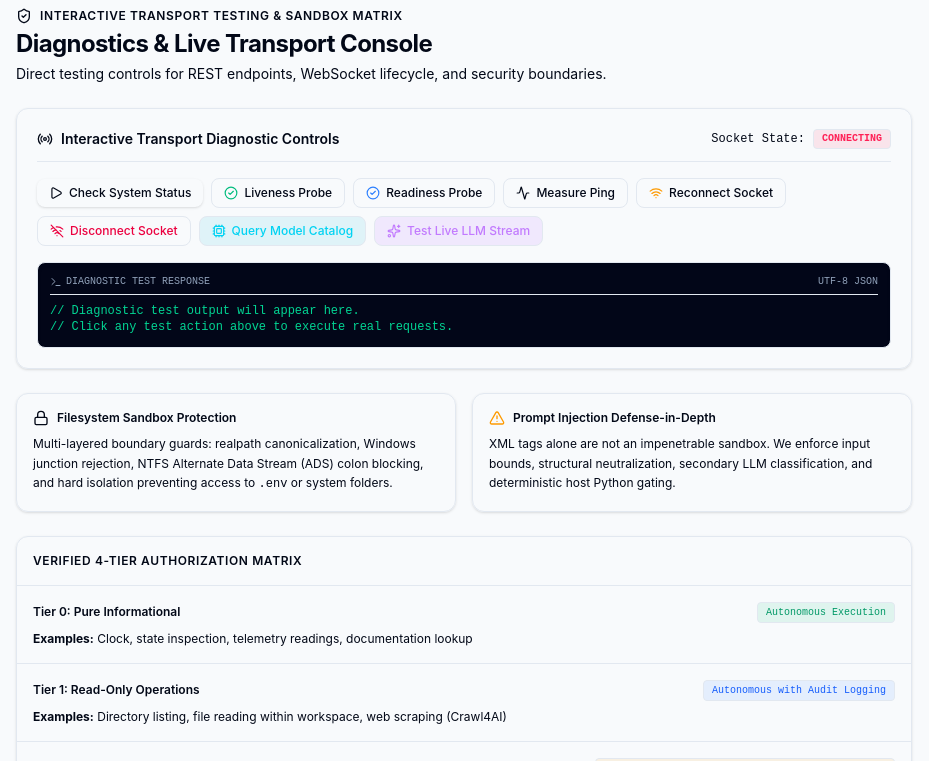
it: Backend UI Integration Components › renders DiagnosticsView and executes Check System Status action
The image size is (929, 761).
Click the button "Check System Status" at (120, 193), box [37, 179, 203, 207]
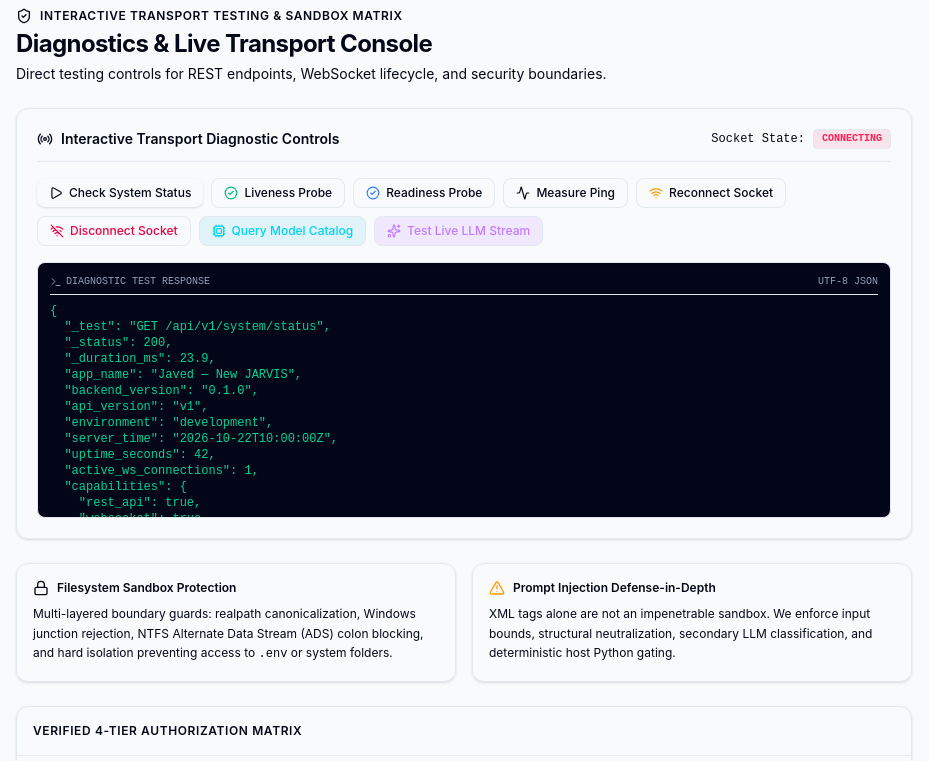
Expected: the text "GET /api/v1/system/status" is shown, [50, 304, 338, 518]
